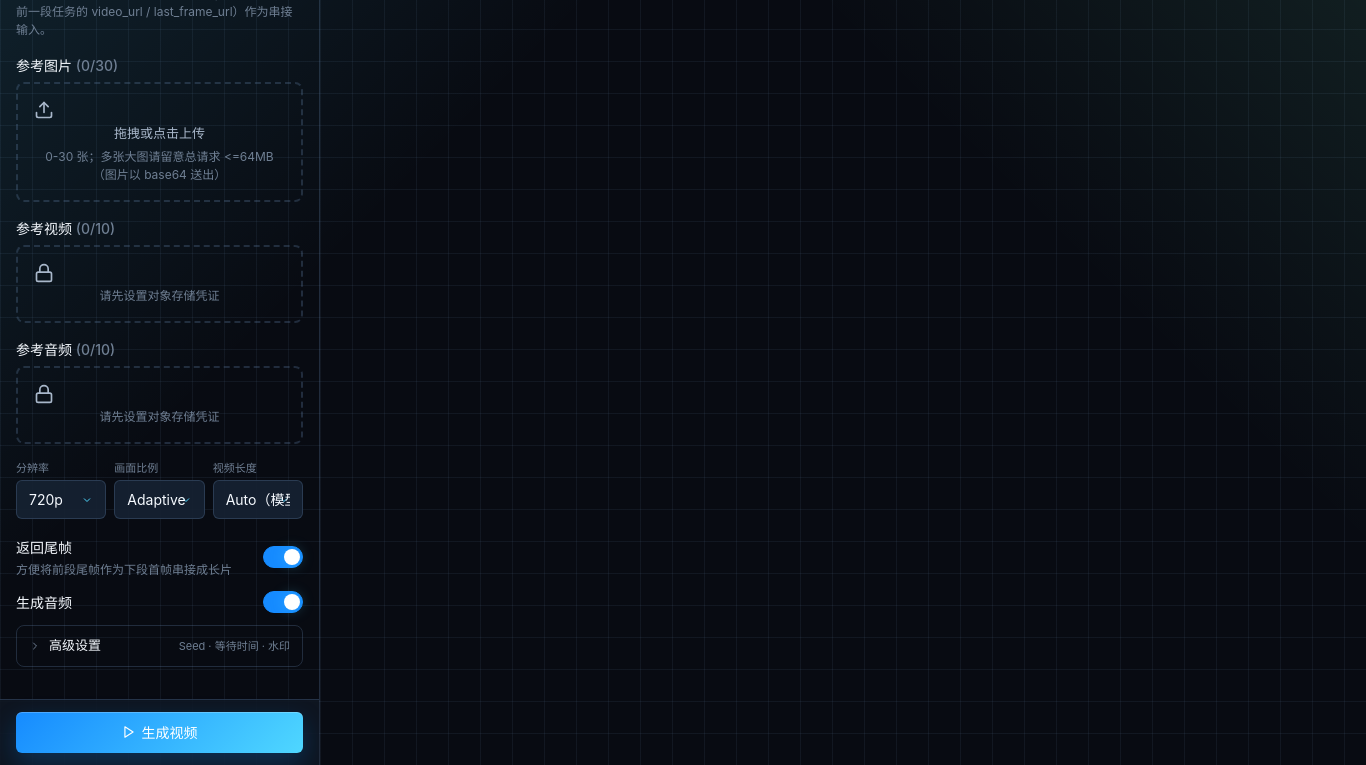
Test: Video25Params › 空的 asset 列不进优化器编号 — 标签口径与 submit() 真正送出的素材一致
The image size is (1366, 765).
(page scrolled)
Click the button "生成视频" at (160, 732), box [16,712,303,752]
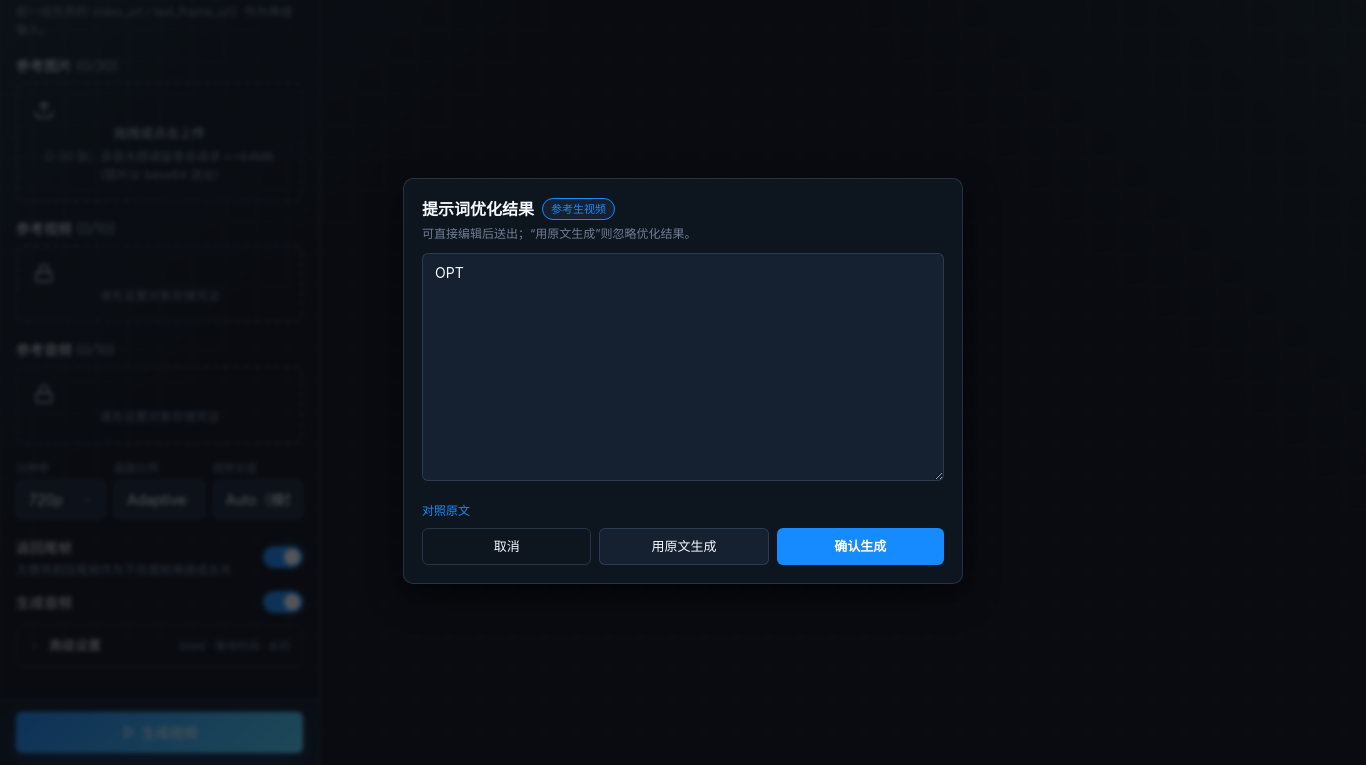
Expected: the text box named "优化后提示词" is shown, [422,253,944,481]
